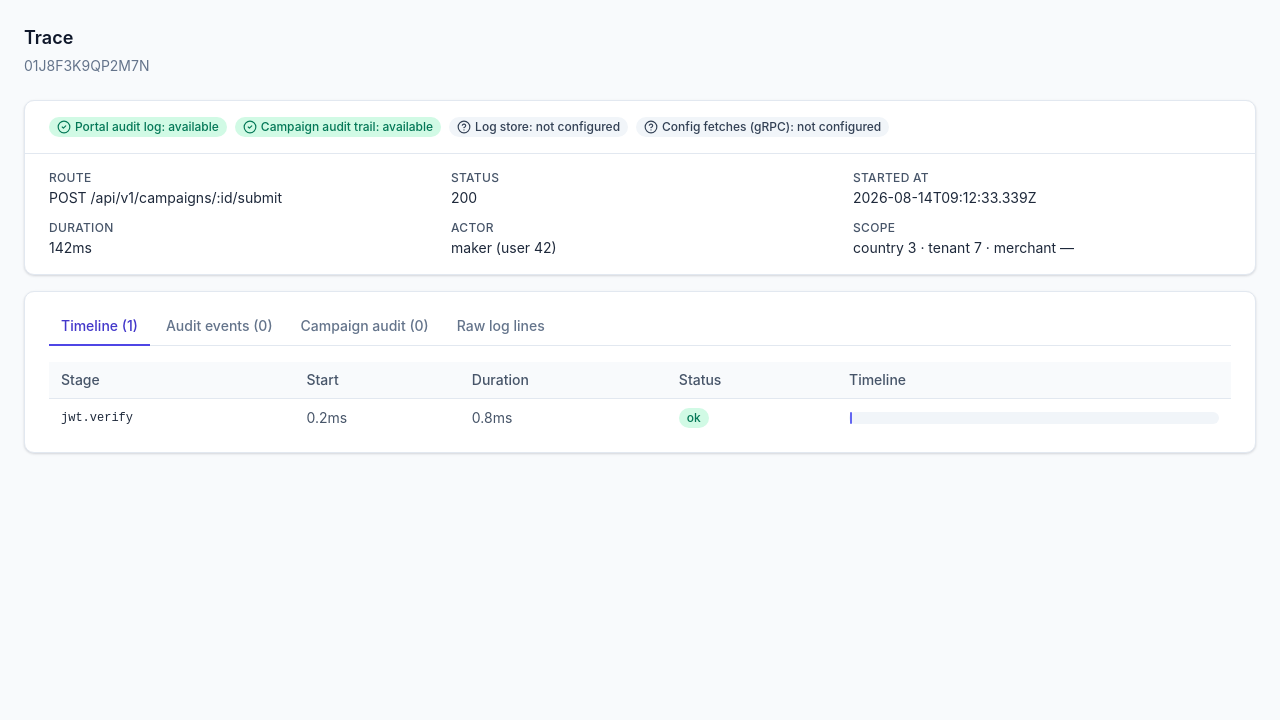
Scenario: the audit-events tab › renders the empty state when there are no audit events
The width and height of the screenshot is (1280, 720).
Expected: the heading "Trace" is shown, [24, 27, 73, 48]
Click the tab "Audit events (0)" at (219, 327), box [154, 308, 285, 346]
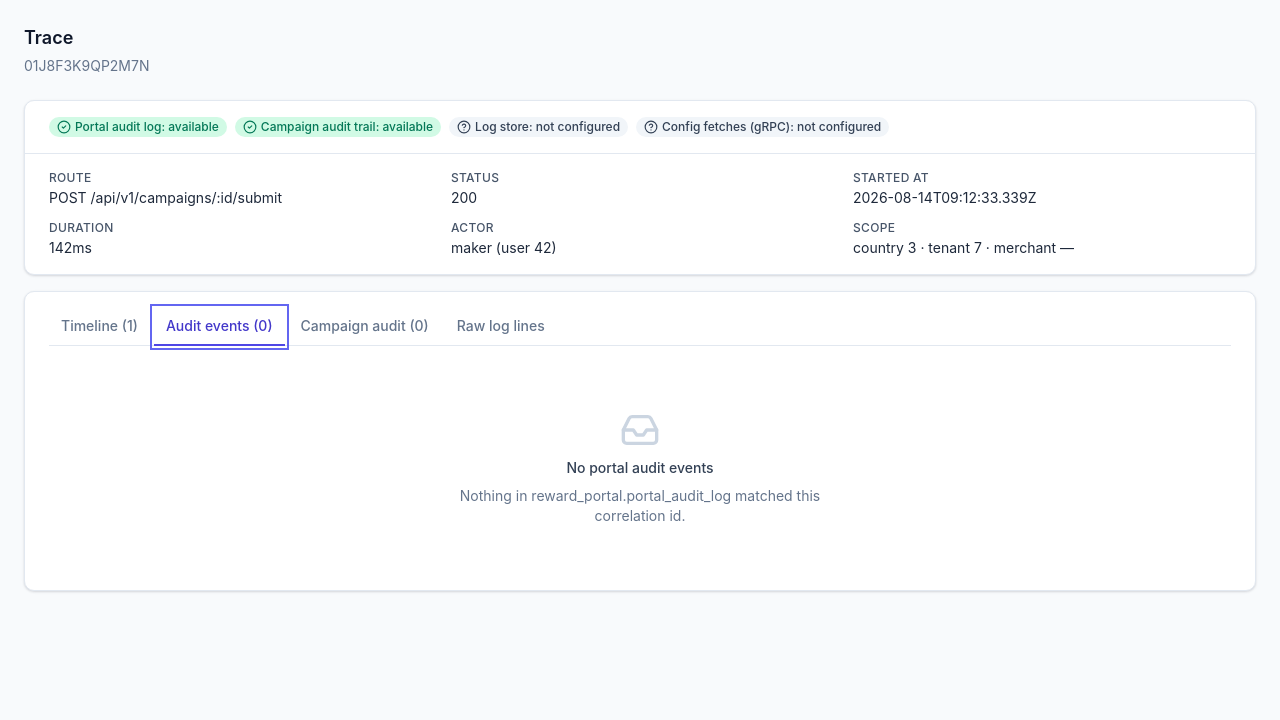
Now the text "No portal audit events" is shown, box [566, 458, 714, 478]
